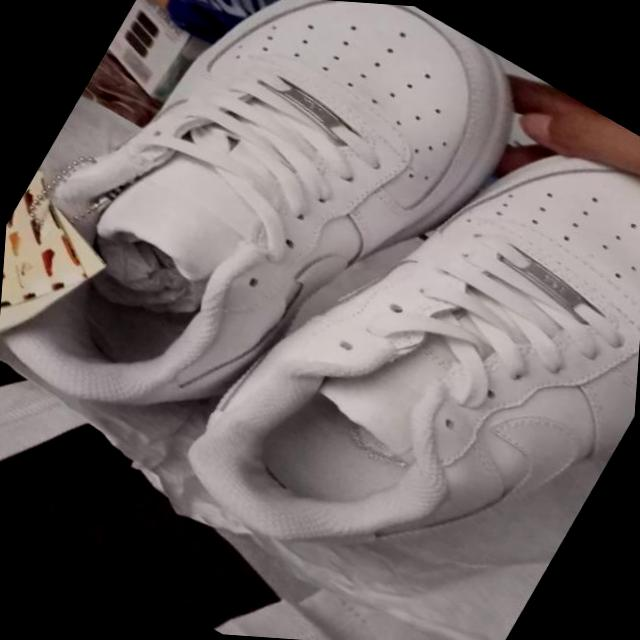nike_fake_airforce: (0, 0, 554, 545), (156, 30, 640, 640)
